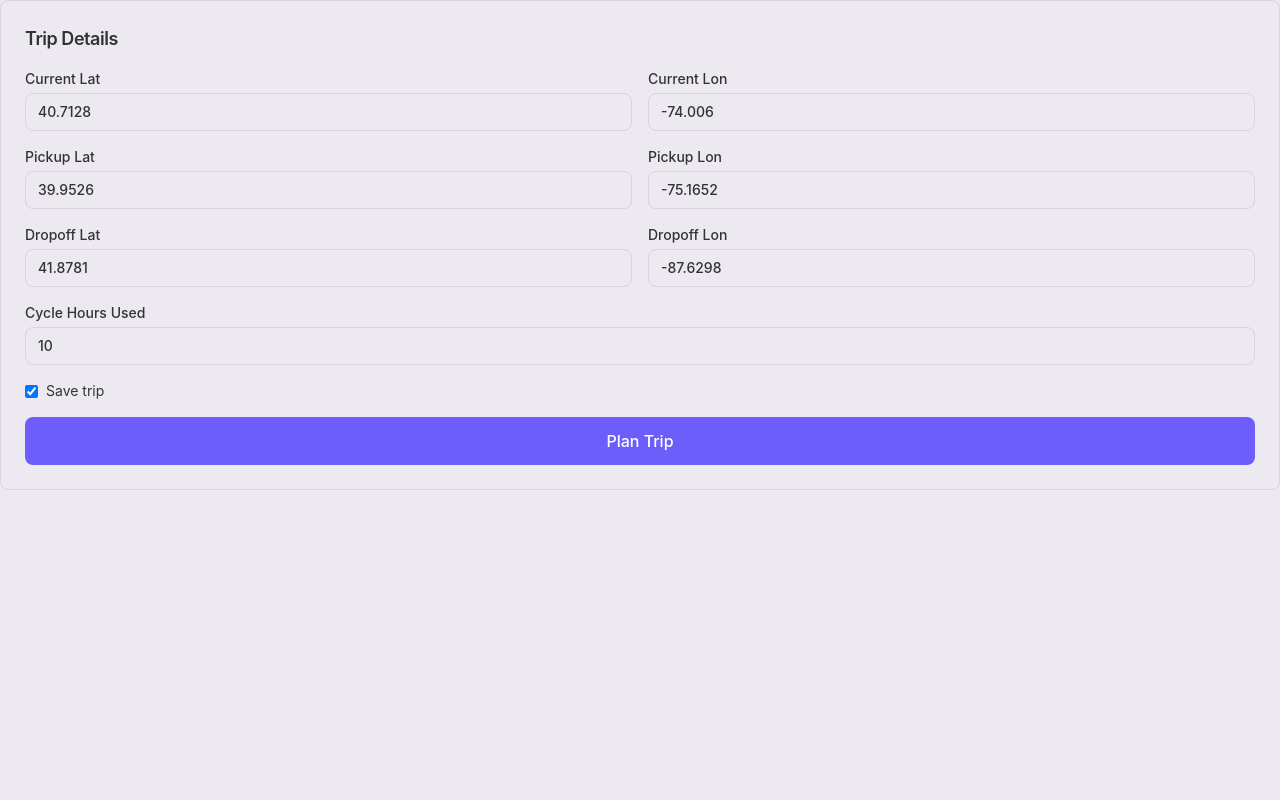
Scenario: TripForm › displays trip results after successful submission
Click the button "Plan Trip". click: (640, 441)
box: [25,417,1255,465]
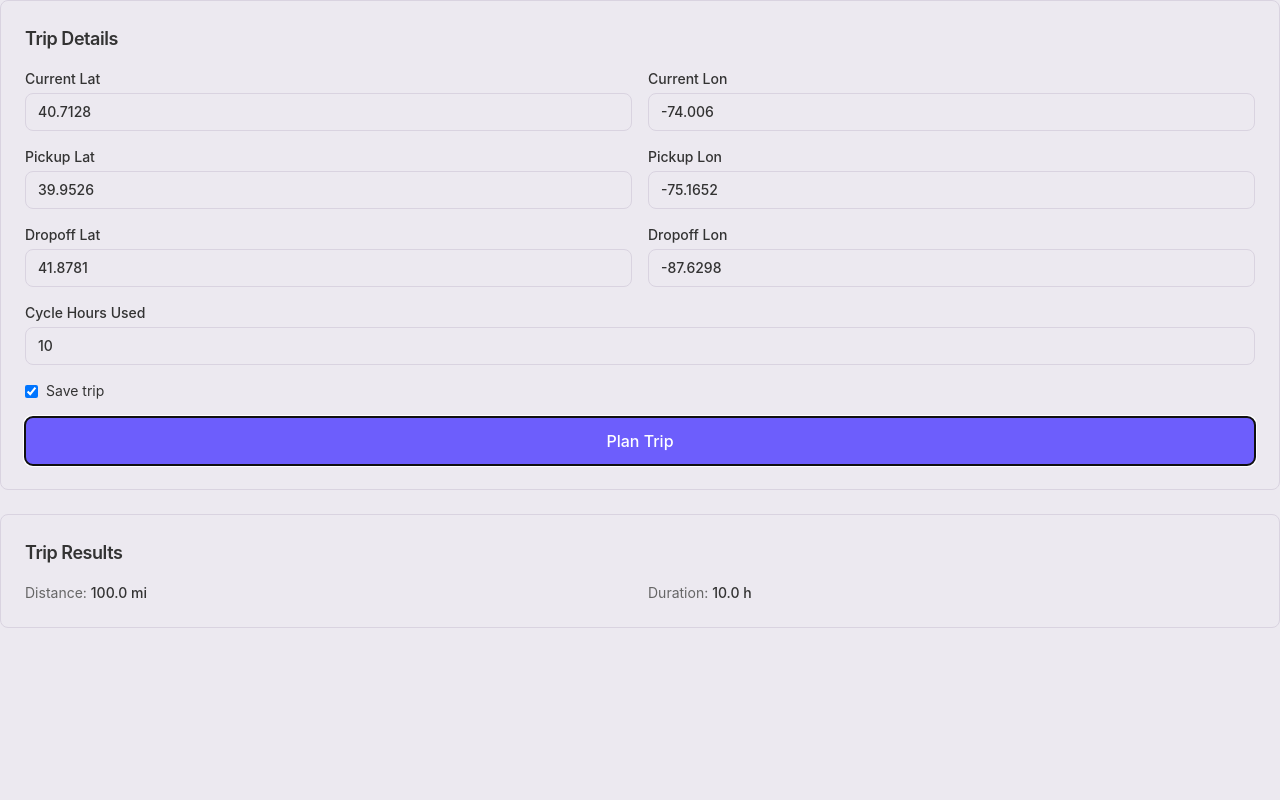
Now the heading "Trip Results" is shown, box [25,542,122,563]
Now the text "100.0 mi" is shown, box [91,584,147,601]
Now the text "10.0 h" is shown, box [712,584,752,601]
